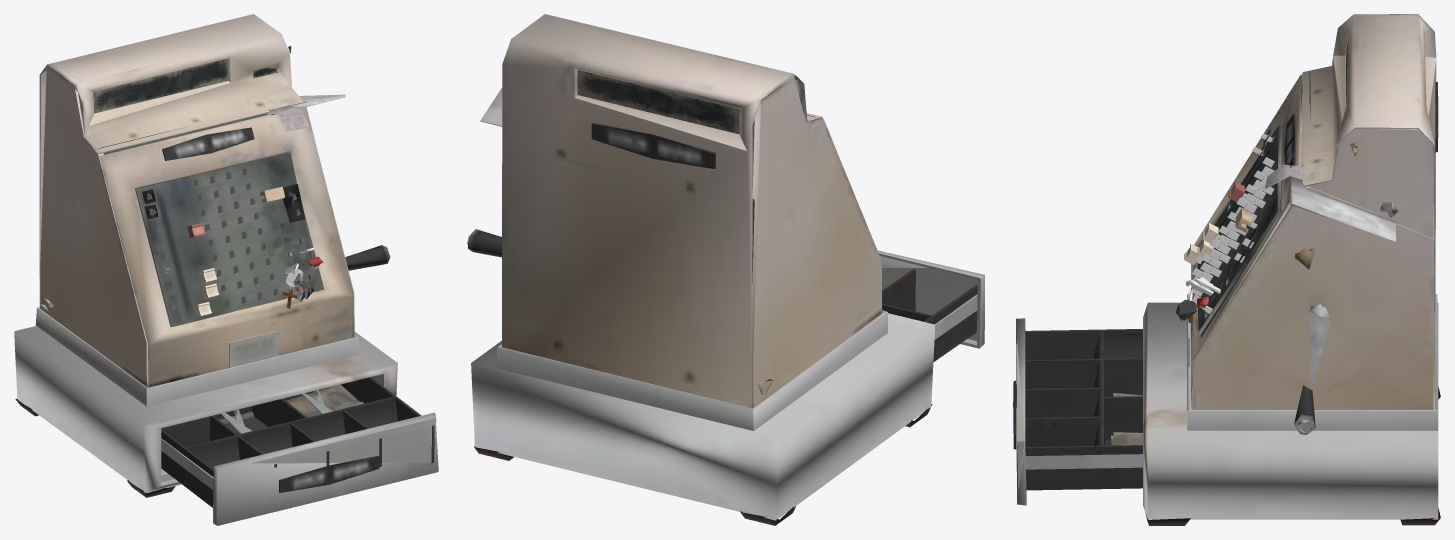
Rendered from register_lo.glb.
3 views of the same model, side by side, from view 1: azimuth 30°, elevation 25°; view 2: azimuth 150°, elevation 25°; view 3: azimuth 270°, elevation 25° (orthographic). The views are drawn at different scales.
Parts seen in each view (by area): view 1: CashRegister_01_body, CashRegister_011_drawer; view 2: CashRegister_01_body, CashRegister_011_drawer; view 3: CashRegister_01_body, CashRegister_011_drawer.
Part boxes in pixels (box(x1,y1,x2,y2)): CashRegister_01_body: box(14, 14, 397, 497); CashRegister_011_drawer: box(161, 377, 438, 525); CashRegister_01_body: box(467, 14, 935, 525); CashRegister_011_drawer: box(877, 250, 984, 362); CashRegister_01_body: box(1143, 14, 1440, 525); CashRegister_011_drawer: box(1013, 318, 1142, 505).
Size of the model in its own units: 0.5941 by 0.6197 by 0.6207.
Materials: 2 (2 with a texture image).
